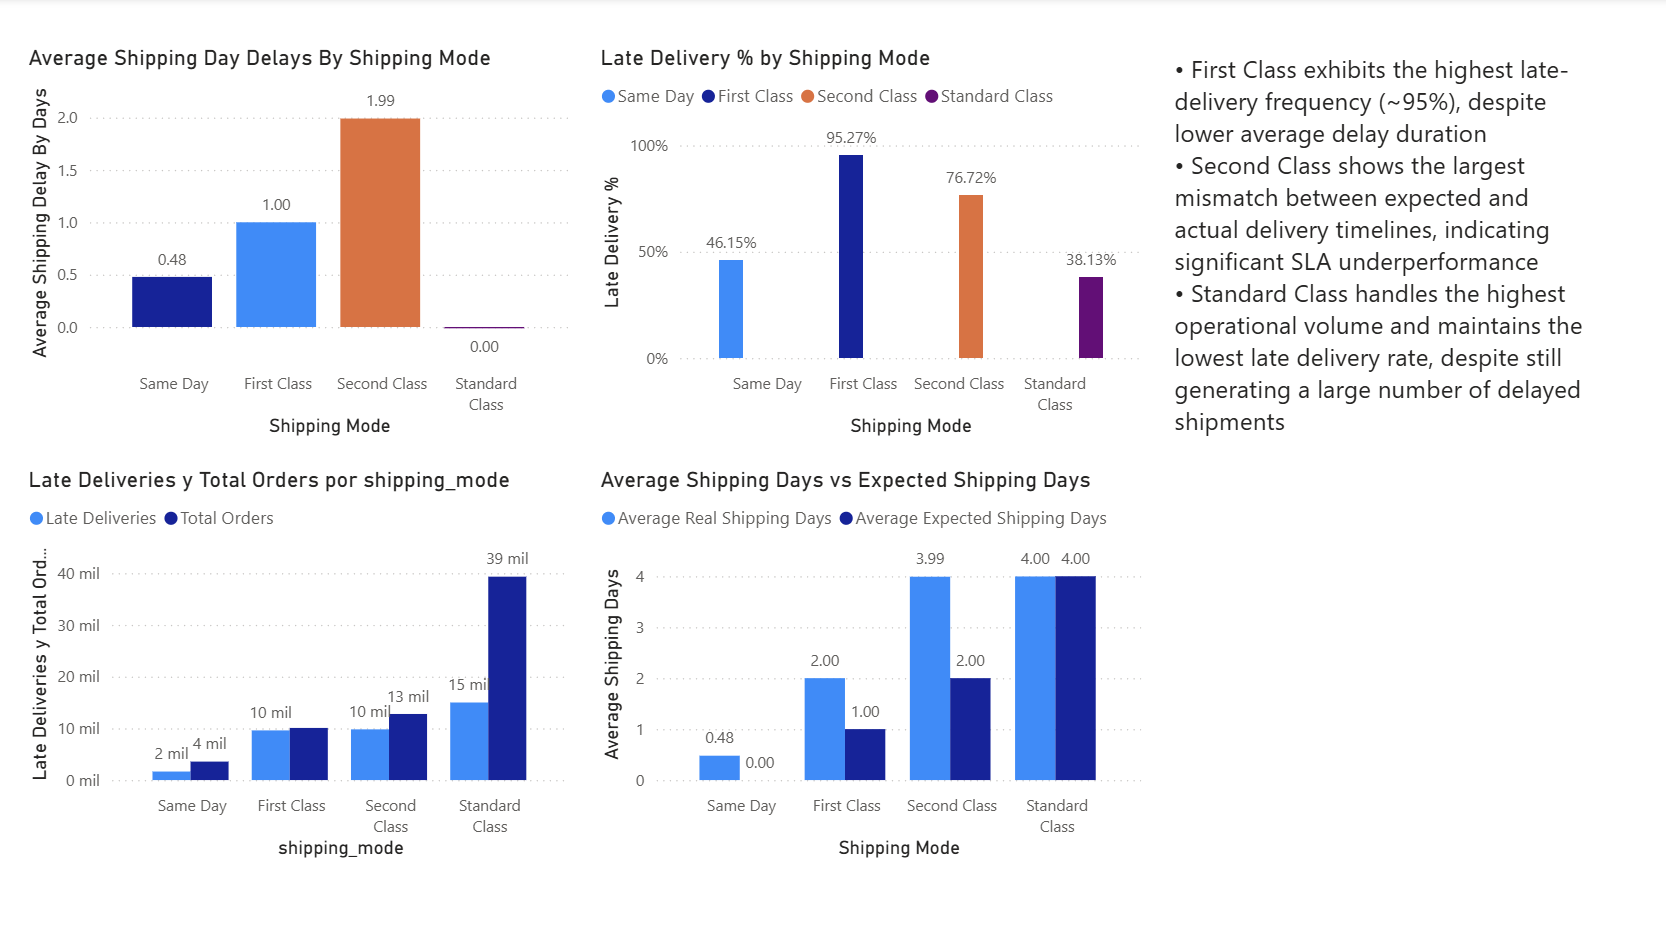

The page's visual inventory and layout, read from the dashboard file:
{"tool":"powerbi","page":{"name":"Página 2","canvas":[1280,720],"ordinal":1},"visuals":[{"type":"clusteredColumnChart","title":"Average Shipping Day Delays By Shipping Mode","fields":{"Y":["Avg(public v_fact_orders.shipping_delay_days)"],"Category":["public v_fact_orders.shipping_mode"]},"box":[18,37,424,304],"z":0},{"type":"clusteredColumnChart","title":"Late Delivery % by Shipping Mode","fields":{"Category":["public v_fact_orders.shipping_mode"],"Y":["public v_fact_orders.Actual Late Delivery Rate"],"Series":["public v_fact_orders.shipping_mode"]},"box":[457,37,424,304],"z":1000},{"type":"clusteredColumnChart","title":"Average Shipping Days vs Expected Shipping Days","fields":{"Category":["public v_fact_orders.shipping_mode"],"Y":["Avg(public v_fact_orders.days_shipping_real)","Avg(public v_fact_orders.days_shipping_scheduled)"]},"box":[457,360,424,304],"z":2000},{"type":"clusteredColumnChart","fields":{"Category":["public v_fact_orders.shipping_mode"],"Y":["public v_fact_orders.Late Deliveries","public v_fact_orders.Total Orders"]},"box":[18,360,424,304],"z":3000},{"type":"textbox","box":[896,37,330,323],"z":4000}]}

Visuals, with their boxes in screenshot pixels (x1, y1, x2, y2), scaled from the page's 1280x720 canvas onto the 1666x934 screenshot:
"Average Shipping Day Delays By Shipping Mode" clusteredColumnChart: bbox(23, 48, 575, 442)
"Late Delivery % by Shipping Mode" clusteredColumnChart: bbox(595, 48, 1147, 442)
"Average Shipping Days vs Expected Shipping Days" clusteredColumnChart: bbox(595, 467, 1147, 861)
clusteredColumnChart - public v_fact_orders.shipping_mode x public v_fact_orders.Late Deliveries: bbox(23, 467, 575, 861)
textbox: bbox(1166, 48, 1596, 467)
